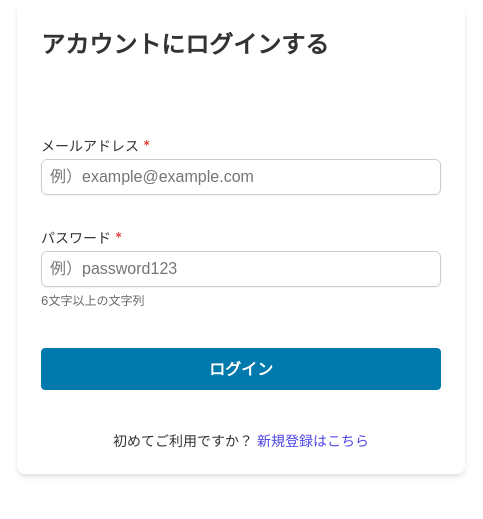
Scenario: LoginForm › メールアドレスが無効な形式の場合に正しいエラーメッセージが表示されること
Type "invalidmail" into the field labelled "メールアドレス*" at (241, 177), box [41,159,441,195]
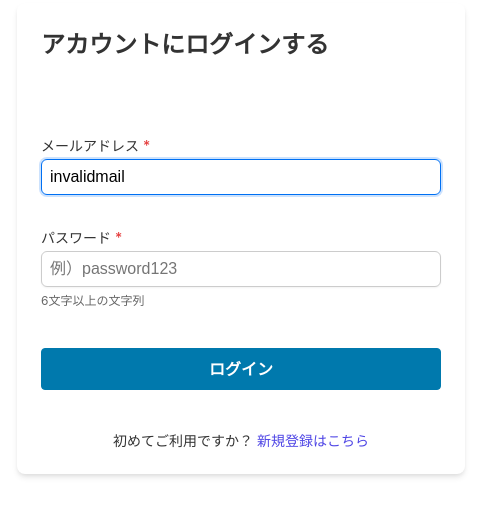
Click the button "ログイン" at (241, 369), box [41,348,441,390]
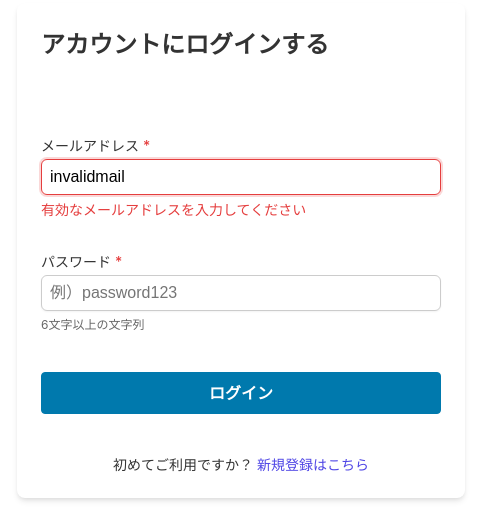
Check: the text "有効なメールアドレスを入力してください" is shown, box [41,201,306,218]
